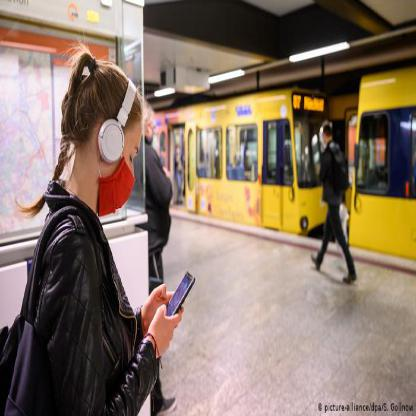Wearing_Mask: (77, 72, 140, 223)
